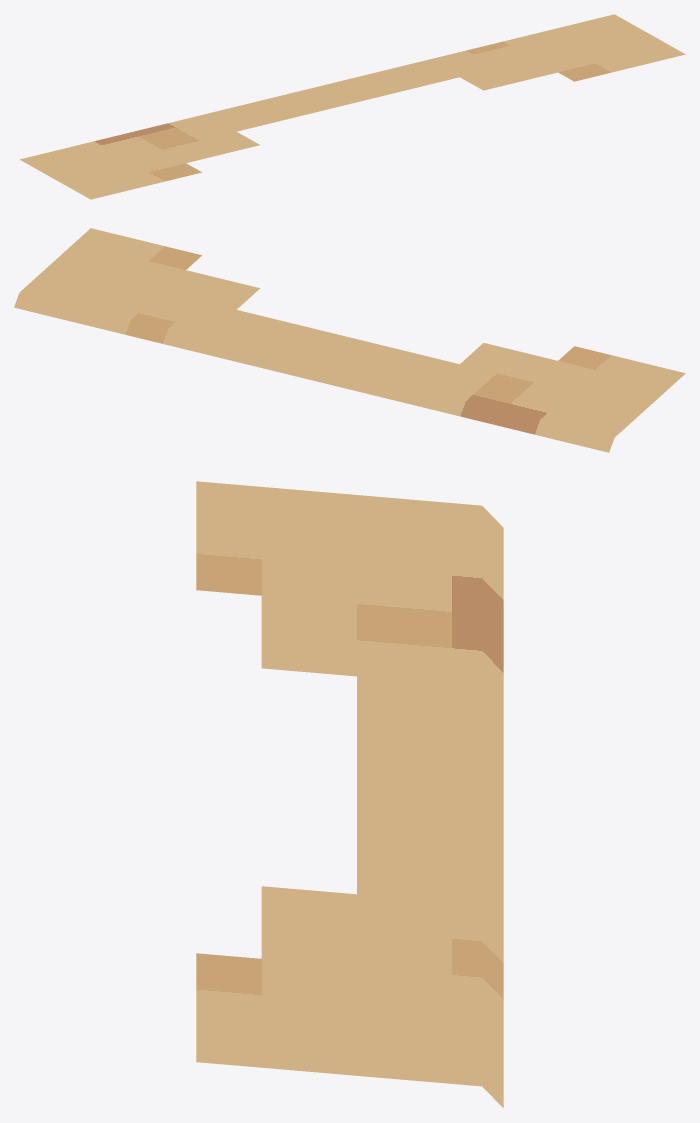
3 renders of one model, top to bottom at view 1: azimuth 30°, elevation 25°; view 2: azimuth 150°, elevation 25°; view 3: azimuth 270°, elevation 25°, orthographic. The views are drawn at different scales.
Bounding box in the file's own units: 1 × 0.0373 × 0.2236.
1 material, 1 textured.
